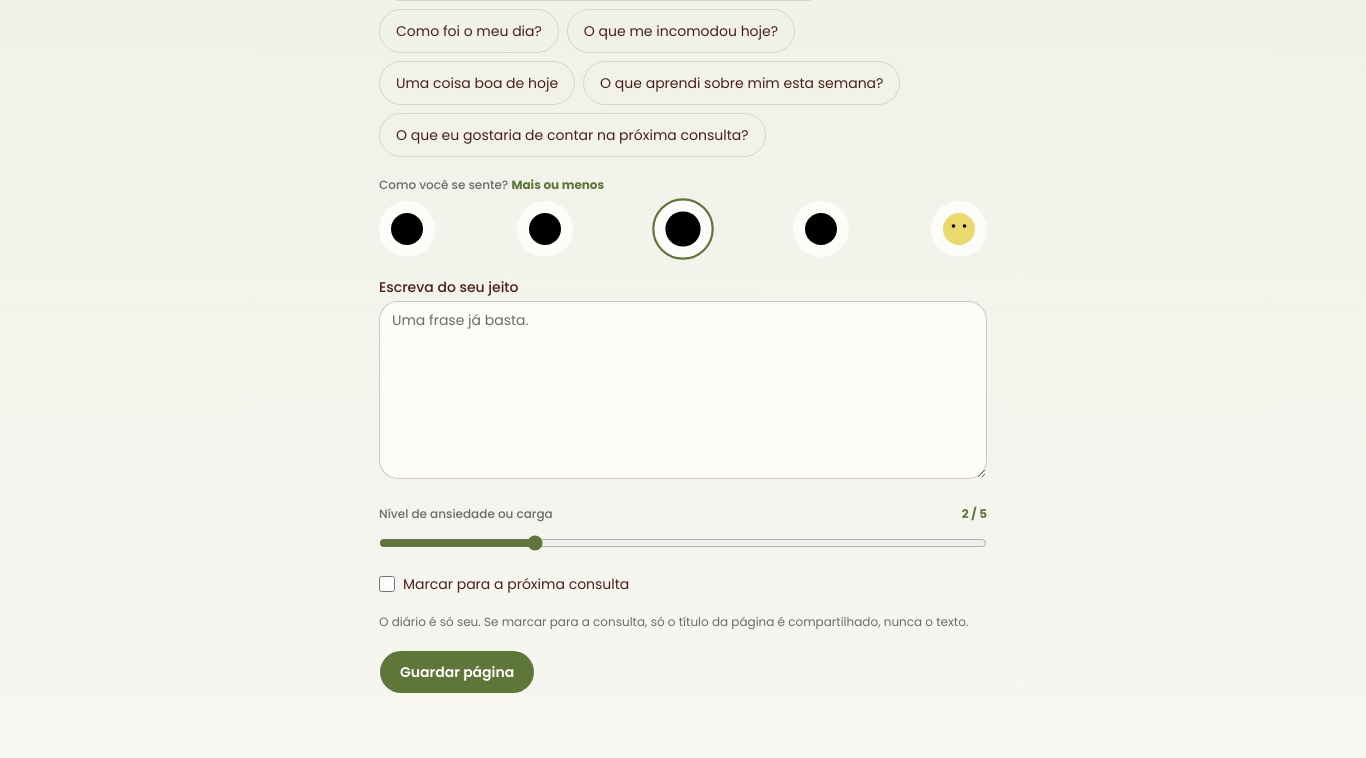
Test: Diário novo › pede um pouco mais de texto antes de guardar
(page scrolled)
Type "oi" into the text box labelled "Escreva do seu jeito". click: point(683, 390)
box: left=379, top=300, right=987, bottom=478
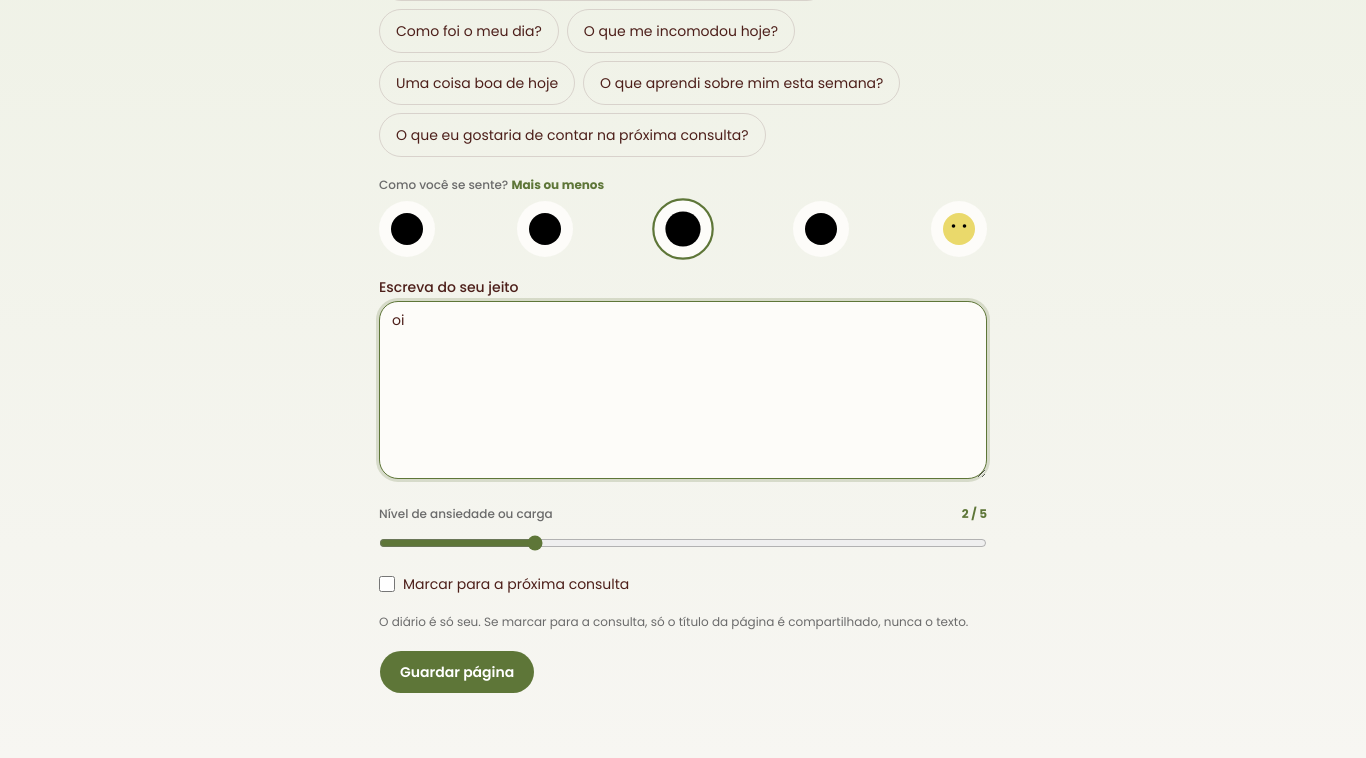
Click the button "Guardar página". click: point(457, 672)
box: left=379, top=650, right=535, bottom=694
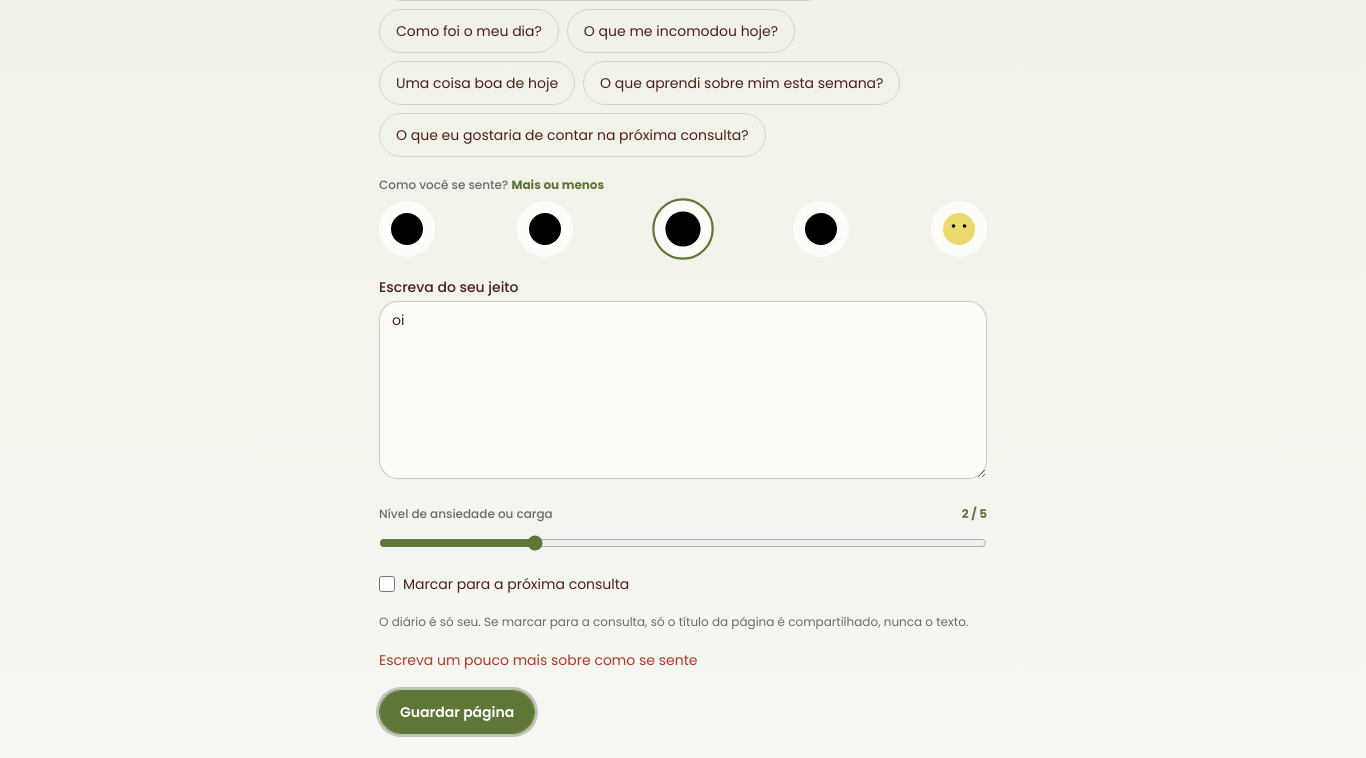
Result: the text "Escreva um pouco mais sobre como se sente" is shown at left=379, top=650, right=697, bottom=670
